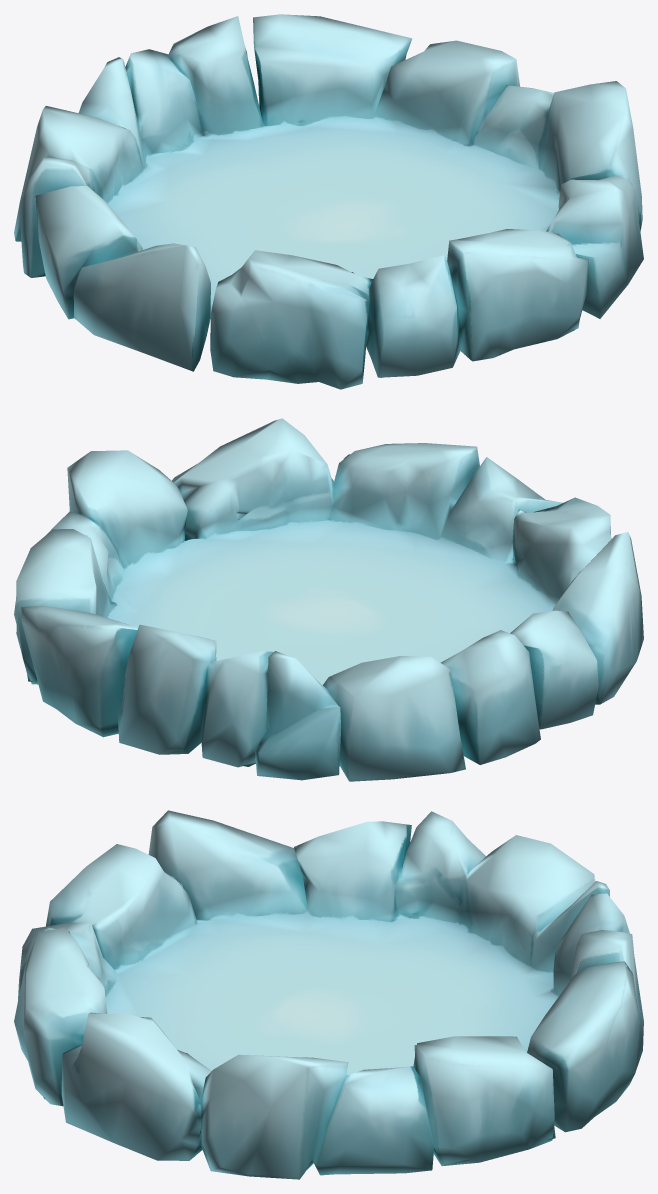
Rendered from led-polynya.glb.
3 views of the same model, one above another, from view 1: azimuth 30°, elevation 25°; view 2: azimuth 150°, elevation 25°; view 3: azimuth 270°, elevation 25° (orthographic). The views are drawn at different scales.
Visible parts, largest first — view 1: geometry_0; view 2: geometry_0; view 3: geometry_0.
Part boxes in pixels (left/top/right/bottom): geometry_0: left=14, top=14, right=643, bottom=389; geometry_0: left=14, top=418, right=643, bottom=781; geometry_0: left=14, top=810, right=643, bottom=1179.
Bounding box in the file's own units: 1 × 0.2222 × 0.971.
1 material, 1 textured.
